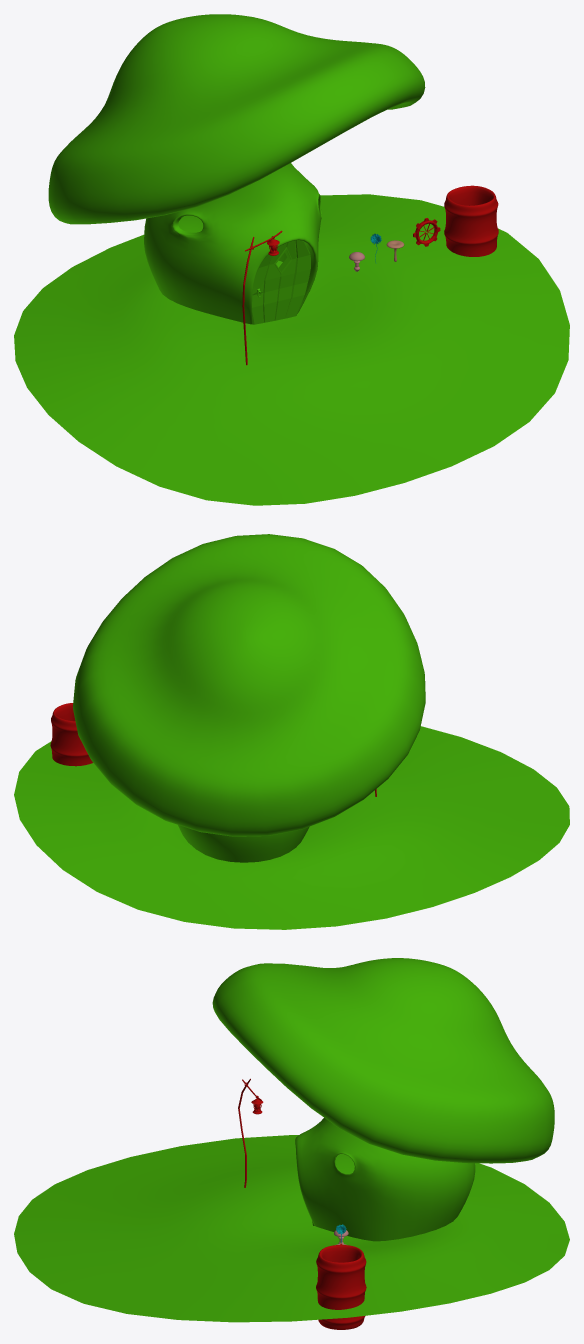
File: MushroomHouse.fbx
3 views of the same model, one above another, from view 1: azimuth 30°, elevation 25°; view 2: azimuth 150°, elevation 25°; view 3: azimuth 270°, elevation 25° (orthographic). The views are drawn at different scales.
Parts seen in each view (by area): view 1: Base, House, Door, Drum; view 2: House, Base, Drum; view 3: Base, House, Drum.
Boxes of the visible parts, bbox=[...] form: Base: bbox=[14, 194, 569, 505]; House: bbox=[48, 14, 425, 324]; Door: bbox=[252, 240, 310, 324]; Drum: bbox=[444, 185, 498, 256]; House: bbox=[72, 534, 425, 862]; Base: bbox=[14, 726, 569, 929]; Drum: bbox=[50, 703, 92, 766]; Base: bbox=[14, 1135, 569, 1322]; House: bbox=[212, 958, 554, 1241]; Drum: bbox=[316, 1245, 366, 1329].
Size of the model in its own units: 10.84 by 6.52 by 11.54.
